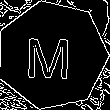M_N: (29, 30, 76, 81)
